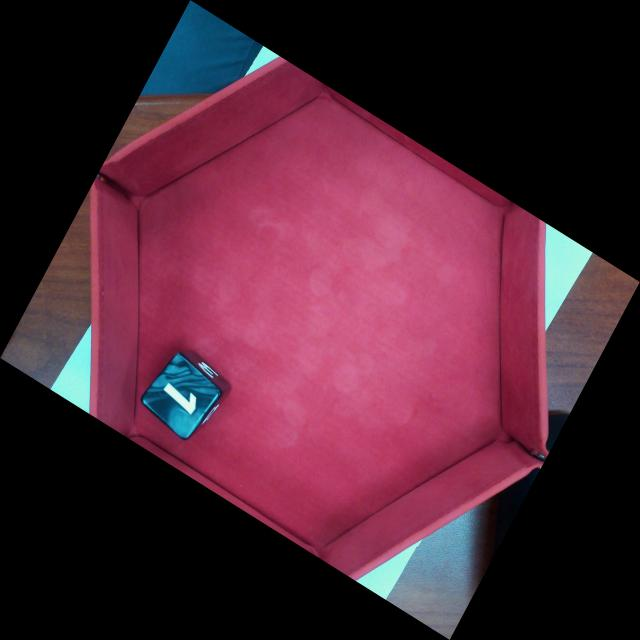dice: (140, 352, 223, 441)
